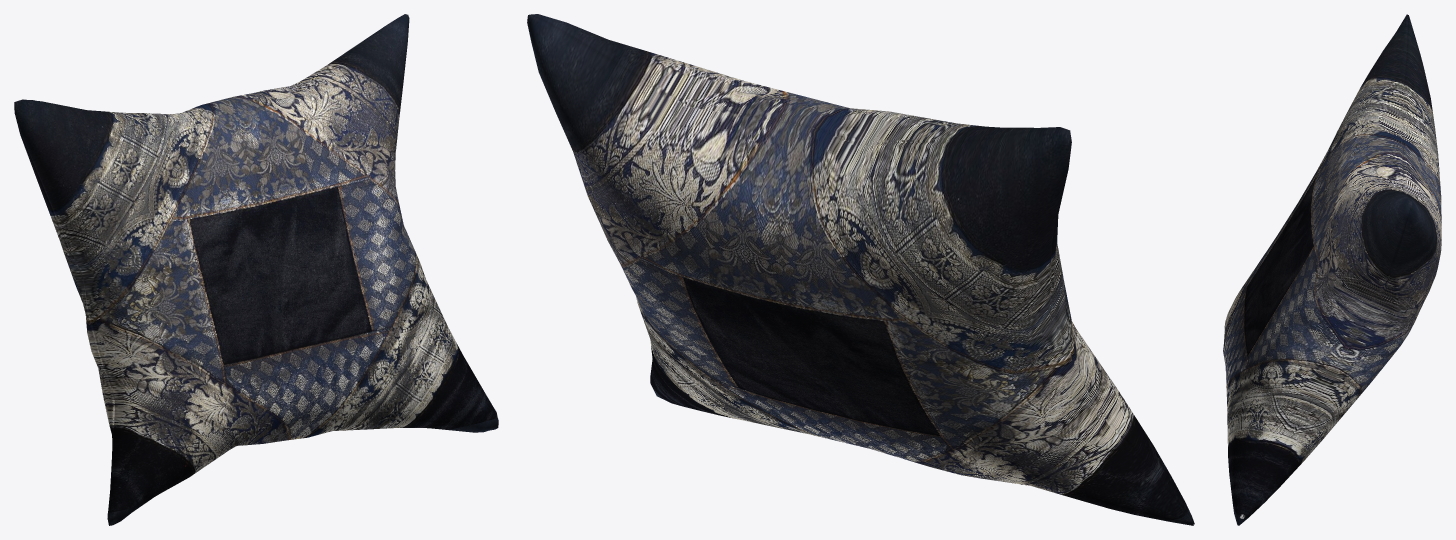
Rendered from Pillow 3.fbx.
3 views of the same model, side by side, from view 1: azimuth 30°, elevation 25°; view 2: azimuth 150°, elevation 25°; view 3: azimuth 270°, elevation 25° (orthographic). The views are drawn at different scales.
Visible parts, largest first — view 1: pillow 3; view 2: pillow 3; view 3: pillow 3.
Boxes of the visible parts, box(x1,y1,x2,y2) form: pillow 3: box(14, 14, 498, 525); pillow 3: box(527, 14, 1194, 525); pillow 3: box(1223, 14, 1441, 525).
Size of the model in its own units: 16.64 by 14.34 by 8.51.
Materials: 1 (1 with a texture image).
